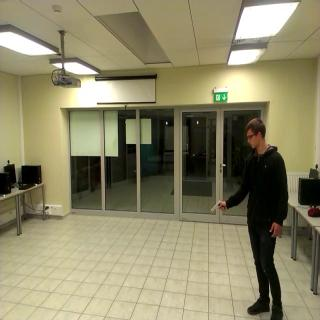gun: (210, 198, 228, 213)
